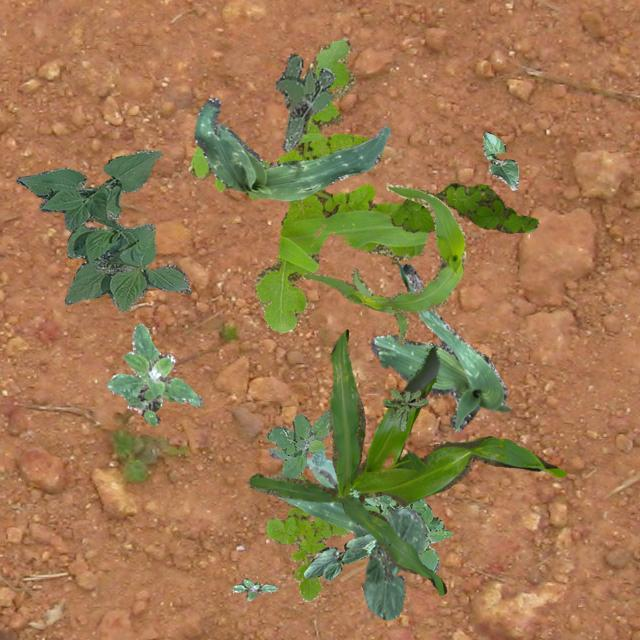crop: (247, 328, 566, 594), (16, 148, 190, 310), (300, 182, 464, 344), (370, 262, 510, 430), (193, 96, 390, 200), (268, 448, 400, 576), (352, 508, 426, 618), (302, 532, 376, 580), (482, 130, 518, 190)
weed: (188, 36, 426, 332), (264, 474, 346, 600), (106, 322, 202, 424), (389, 182, 536, 232), (362, 494, 451, 572), (274, 52, 334, 150), (266, 408, 330, 478), (382, 388, 426, 430), (230, 578, 276, 600)
